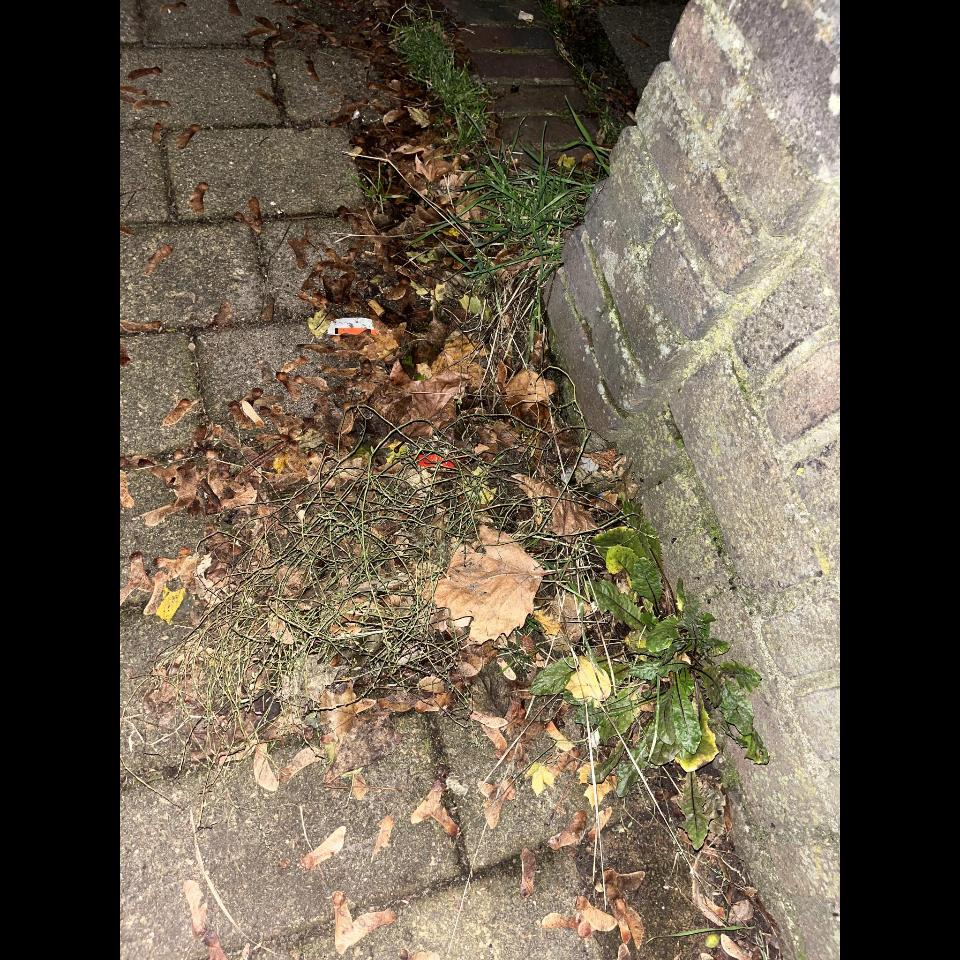weed: (588, 581, 767, 795), (452, 124, 609, 321), (394, 10, 488, 146), (532, 660, 584, 723)
